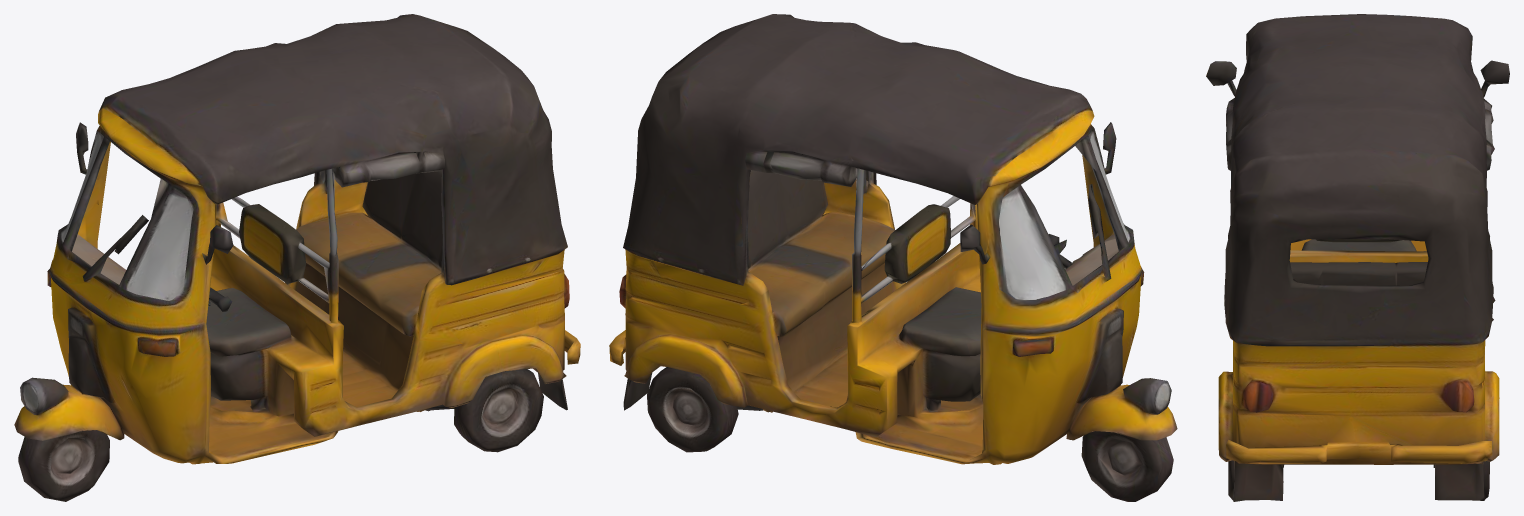
File: keke_tricycle.glb
3 views of the same model, side by side, from view 1: azimuth 30°, elevation 25°; view 2: azimuth 150°, elevation 25°; view 3: azimuth 270°, elevation 25° (orthographic).
Visible parts, largest first — view 1: tripo_node_d18c371c-9bbc-46db-bc78-1ee05b1dfb0a; view 2: tripo_node_d18c371c-9bbc-46db-bc78-1ee05b1dfb0a; view 3: tripo_node_d18c371c-9bbc-46db-bc78-1ee05b1dfb0a.
Boxes of the visible parts, x1=… form: tripo_node_d18c371c-9bbc-46db-bc78-1ee05b1dfb0a: x1=14, y1=14, x2=580, y2=501; tripo_node_d18c371c-9bbc-46db-bc78-1ee05b1dfb0a: x1=609, y1=14, x2=1177, y2=501; tripo_node_d18c371c-9bbc-46db-bc78-1ee05b1dfb0a: x1=1206, y1=14, x2=1509, y2=501.
Bounding box in the file's own units: 1 × 0.6984 × 0.5272.
1 material, 1 textured.
